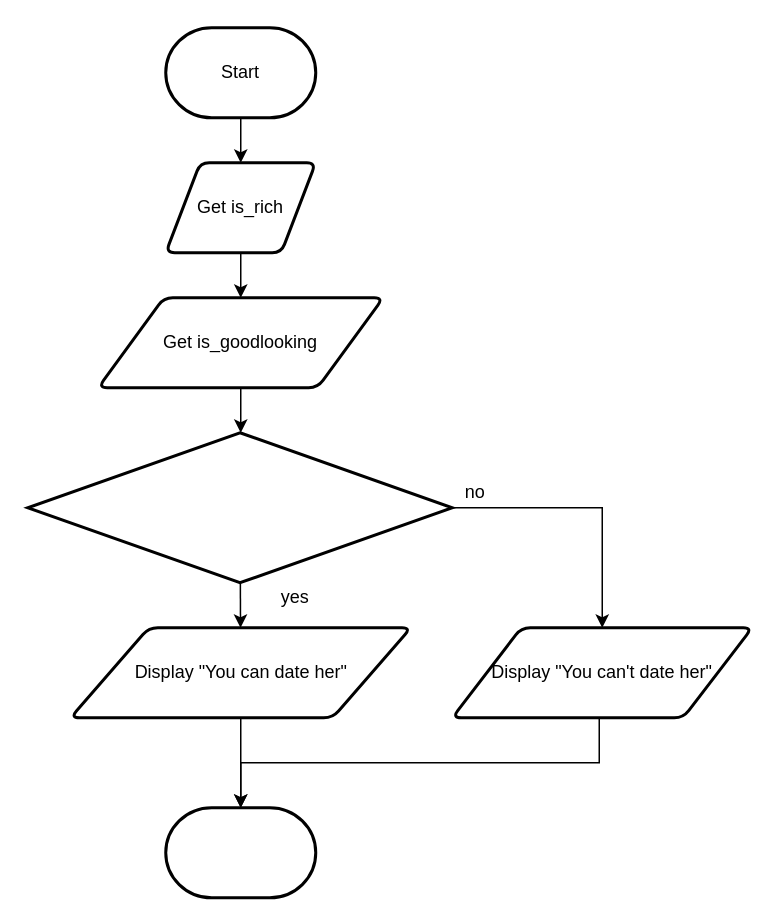
Some shapes in this 779 by 924 pixel diagram are drawn without their labels. Here are the shapes that lost their labels. From the top down, the box of each, then its label:
(26, 430, 453, 584): if is_rich == y OR is_goodlooking == y
(164, 806, 316, 898): Stop
